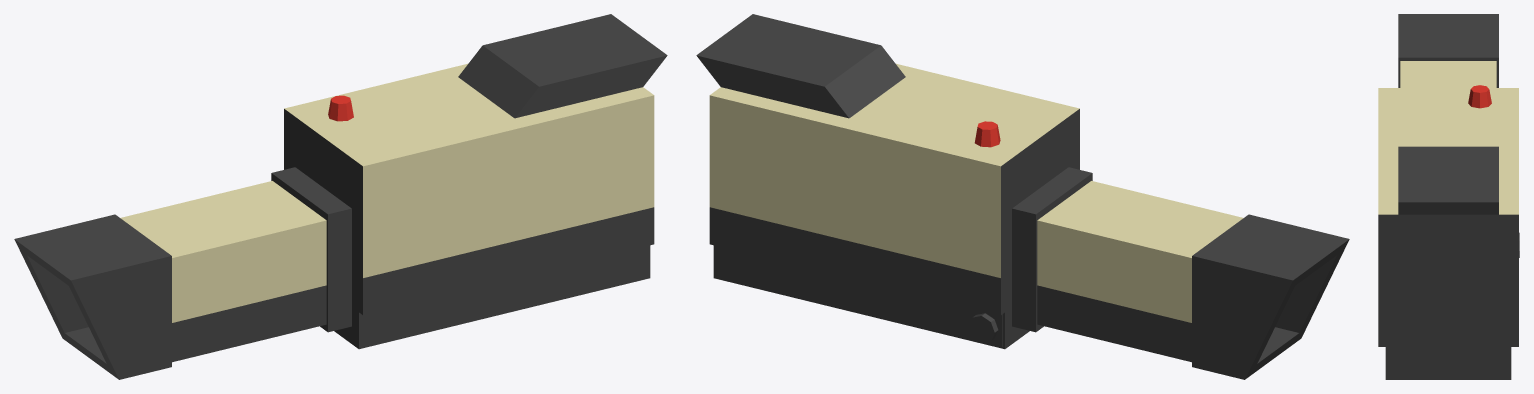
File: camera.glb
3 views of the same model, side by side, from view 1: azimuth 30°, elevation 25°; view 2: azimuth 150°, elevation 25°; view 3: azimuth 270°, elevation 25° (orthographic). The views are drawn at different scales.
Visible parts, largest first — view 1: Camera, Accessories; view 2: Camera, Accessories; view 3: Camera, Accessories.
Boxes of the visible parts, bbox=[...] form: Camera: bbox=[14, 14, 667, 379]; Accessories: bbox=[328, 95, 353, 121]; Camera: bbox=[696, 14, 1349, 379]; Accessories: bbox=[905, 121, 1002, 346]; Camera: bbox=[1378, 14, 1518, 379]; Accessories: bbox=[1468, 85, 1519, 257].
Size of the model in its own units: 0.853 by 0.2891 by 0.1966.
